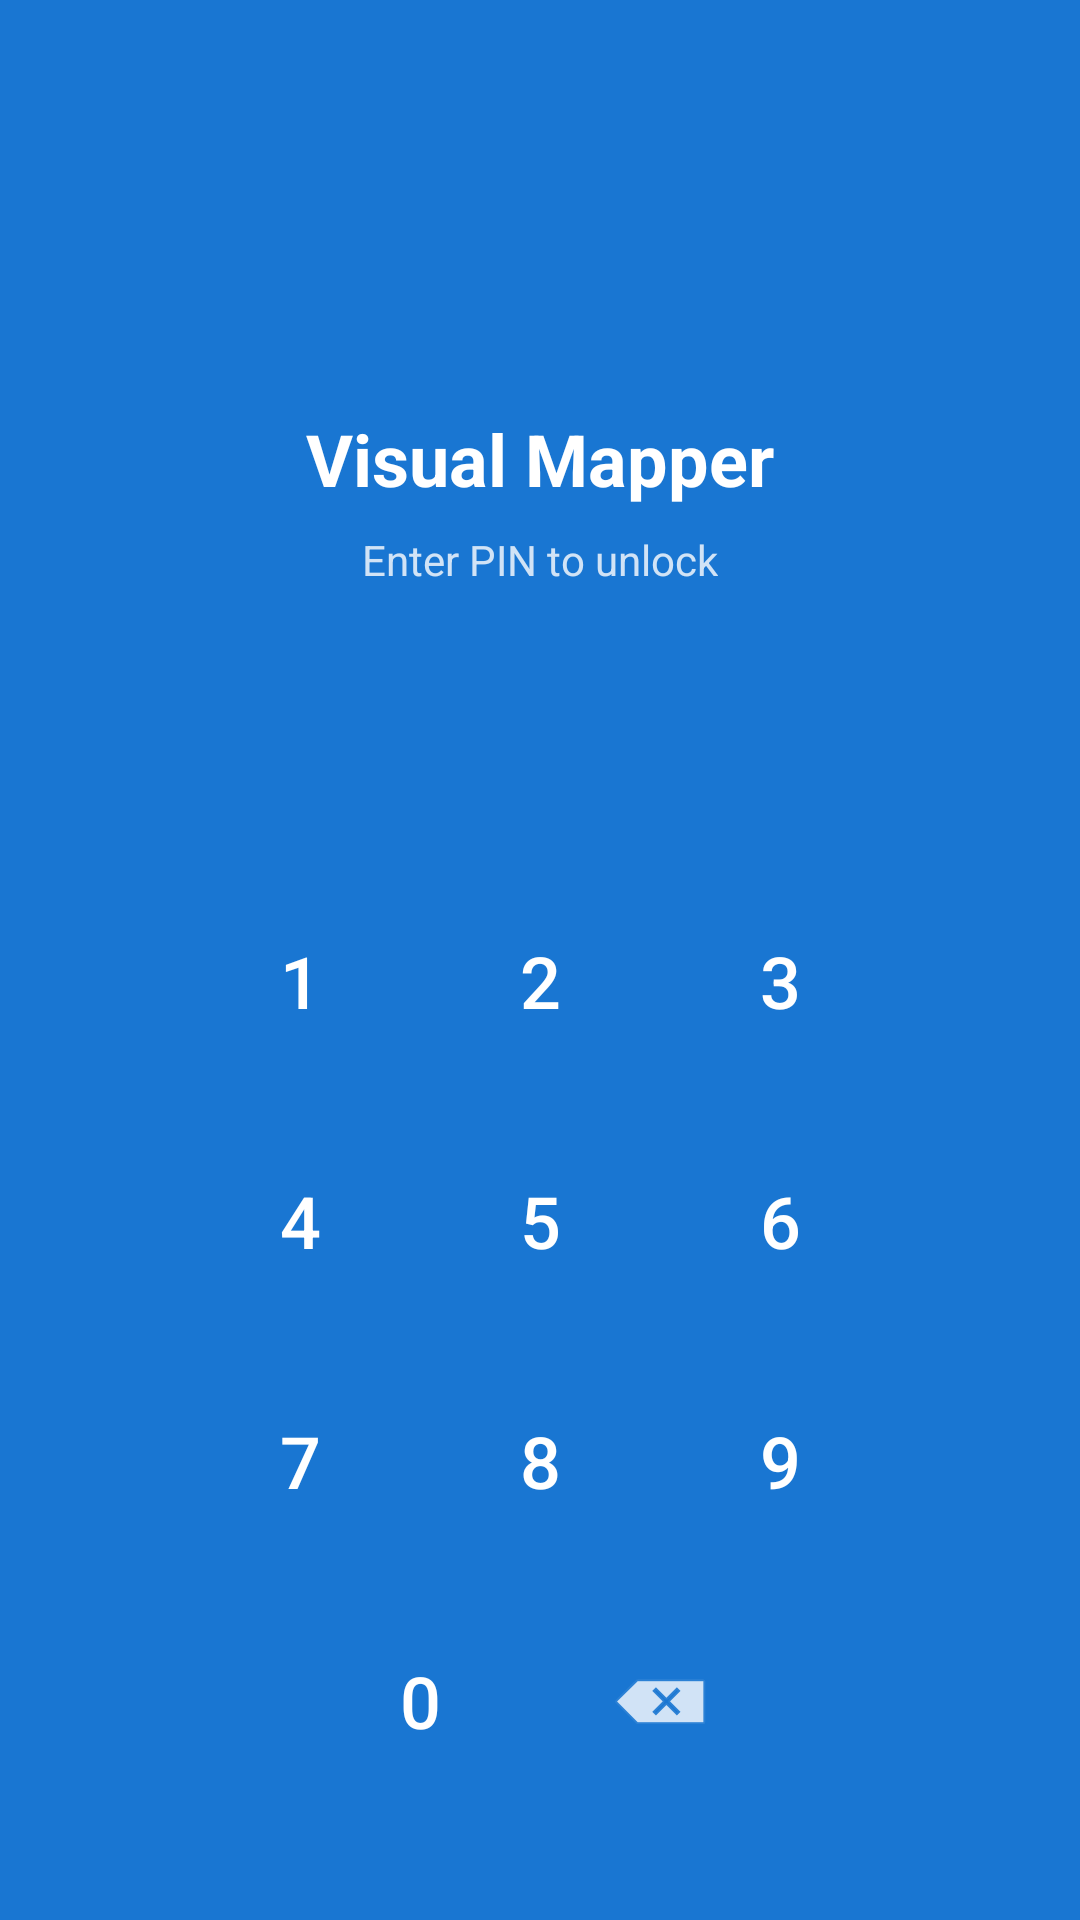

Icons on this 1080x1920 Android screen, each with the point to tap as (x=x, y=y):
Delete: (x=660, y=1702)
